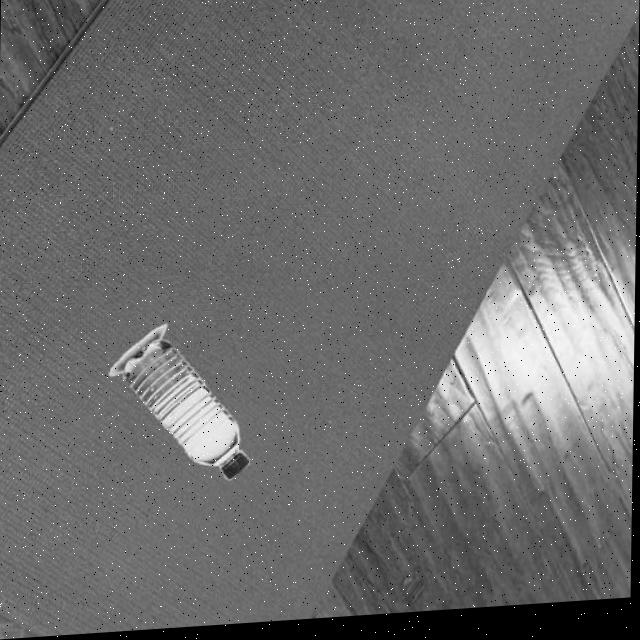bottle: (107, 320, 255, 491)
